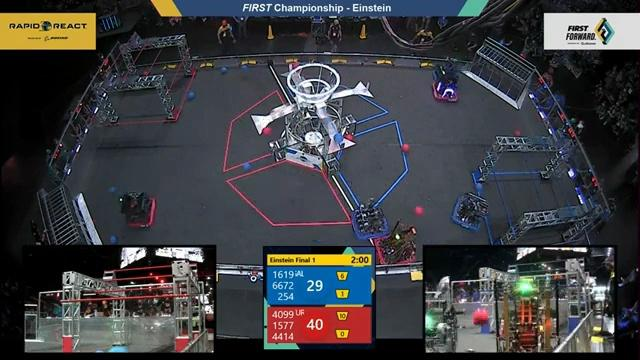robot: (373, 220, 417, 267), (448, 189, 489, 234), (347, 201, 389, 241), (118, 190, 155, 228), (429, 78, 464, 107), (428, 57, 461, 84)
